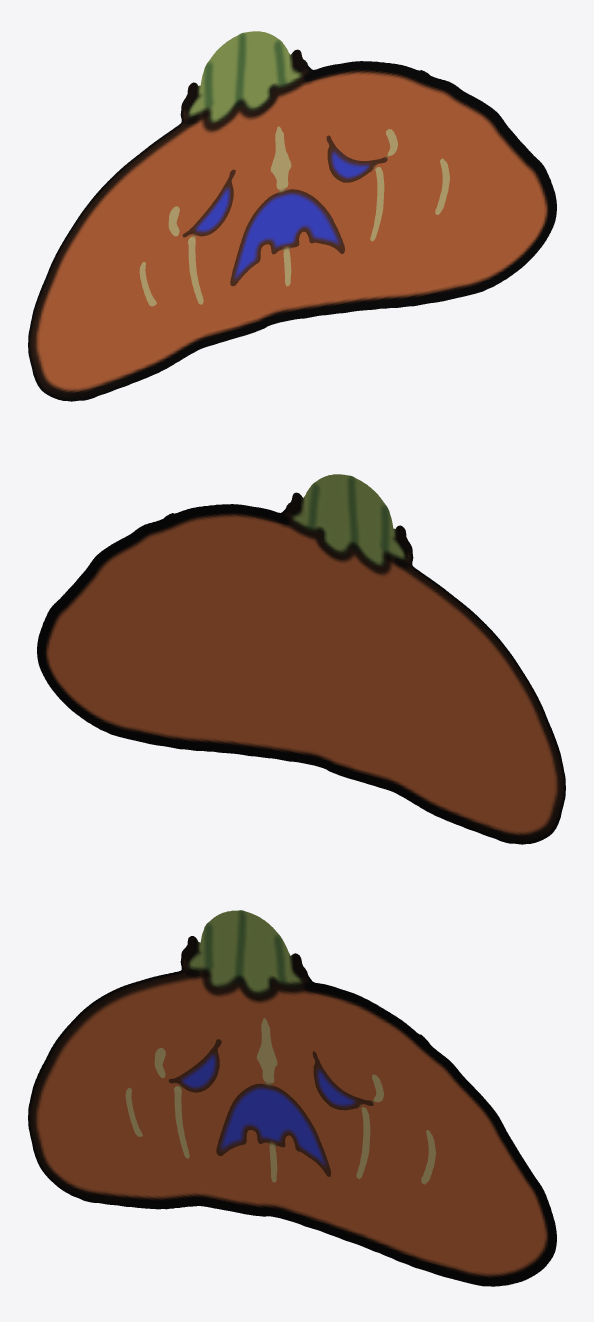
The model's file is nanguaTou_water.FBX.
The picture shows the model from 3 angles, top to bottom: view 1: azimuth 30°, elevation 25°; view 2: azimuth 150°, elevation 25°; view 3: azimuth 330°, elevation 25°; orthographic projection.
Visible parts, largest first — view 1: nanguaTou_water; view 2: nanguaTou_water; view 3: nanguaTou_water.
Part boxes in pixels (x1,y1,x2,y2): nanguaTou_water: (28,31,556,401); nanguaTou_water: (37,474,565,844); nanguaTou_water: (28,910,556,1286).
Size of the model in its own units: 210 by 125 by 4.48.
